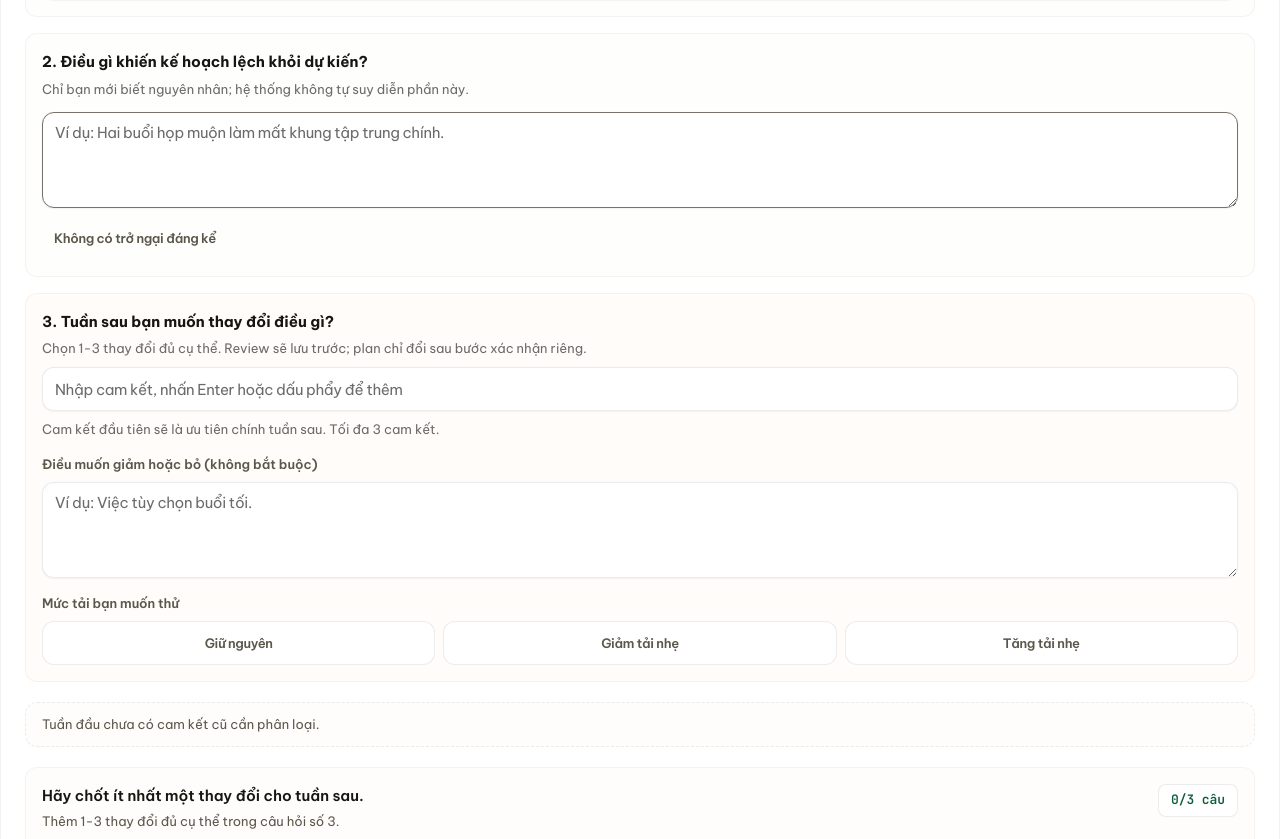
Test: TwelveWeekWeekTab review flow › adds a next-week commitment chip with Enter and clears the input
(page scrolled)
Type "Plan a" into the field labelled "3. Tuần sau bạn muốn thay đổi điều gì?" at (640, 390), box x1=42 y1=368 x2=1238 y2=412
Then press Enter
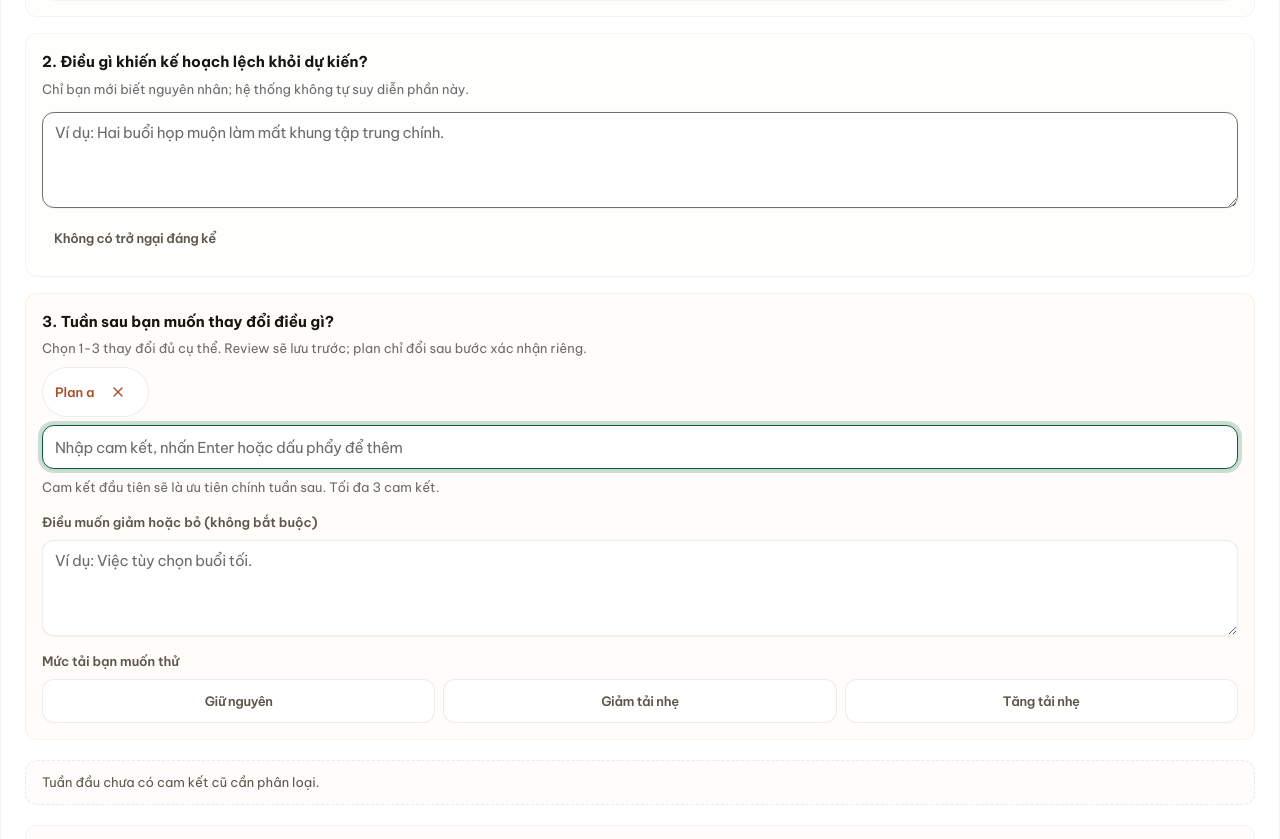
Expected: the field labelled "3. Tuần sau bạn muốn thay đổi điều gì?" is empty, x1=42 y1=426 x2=1238 y2=470
Expected: the element named "Cam kết: Plan a" is shown, x1=42 y1=368 x2=149 y2=418
Expected: the button named "Xóa cam kết: Plan a" is enabled, x1=100 y1=374 x2=136 y2=410
